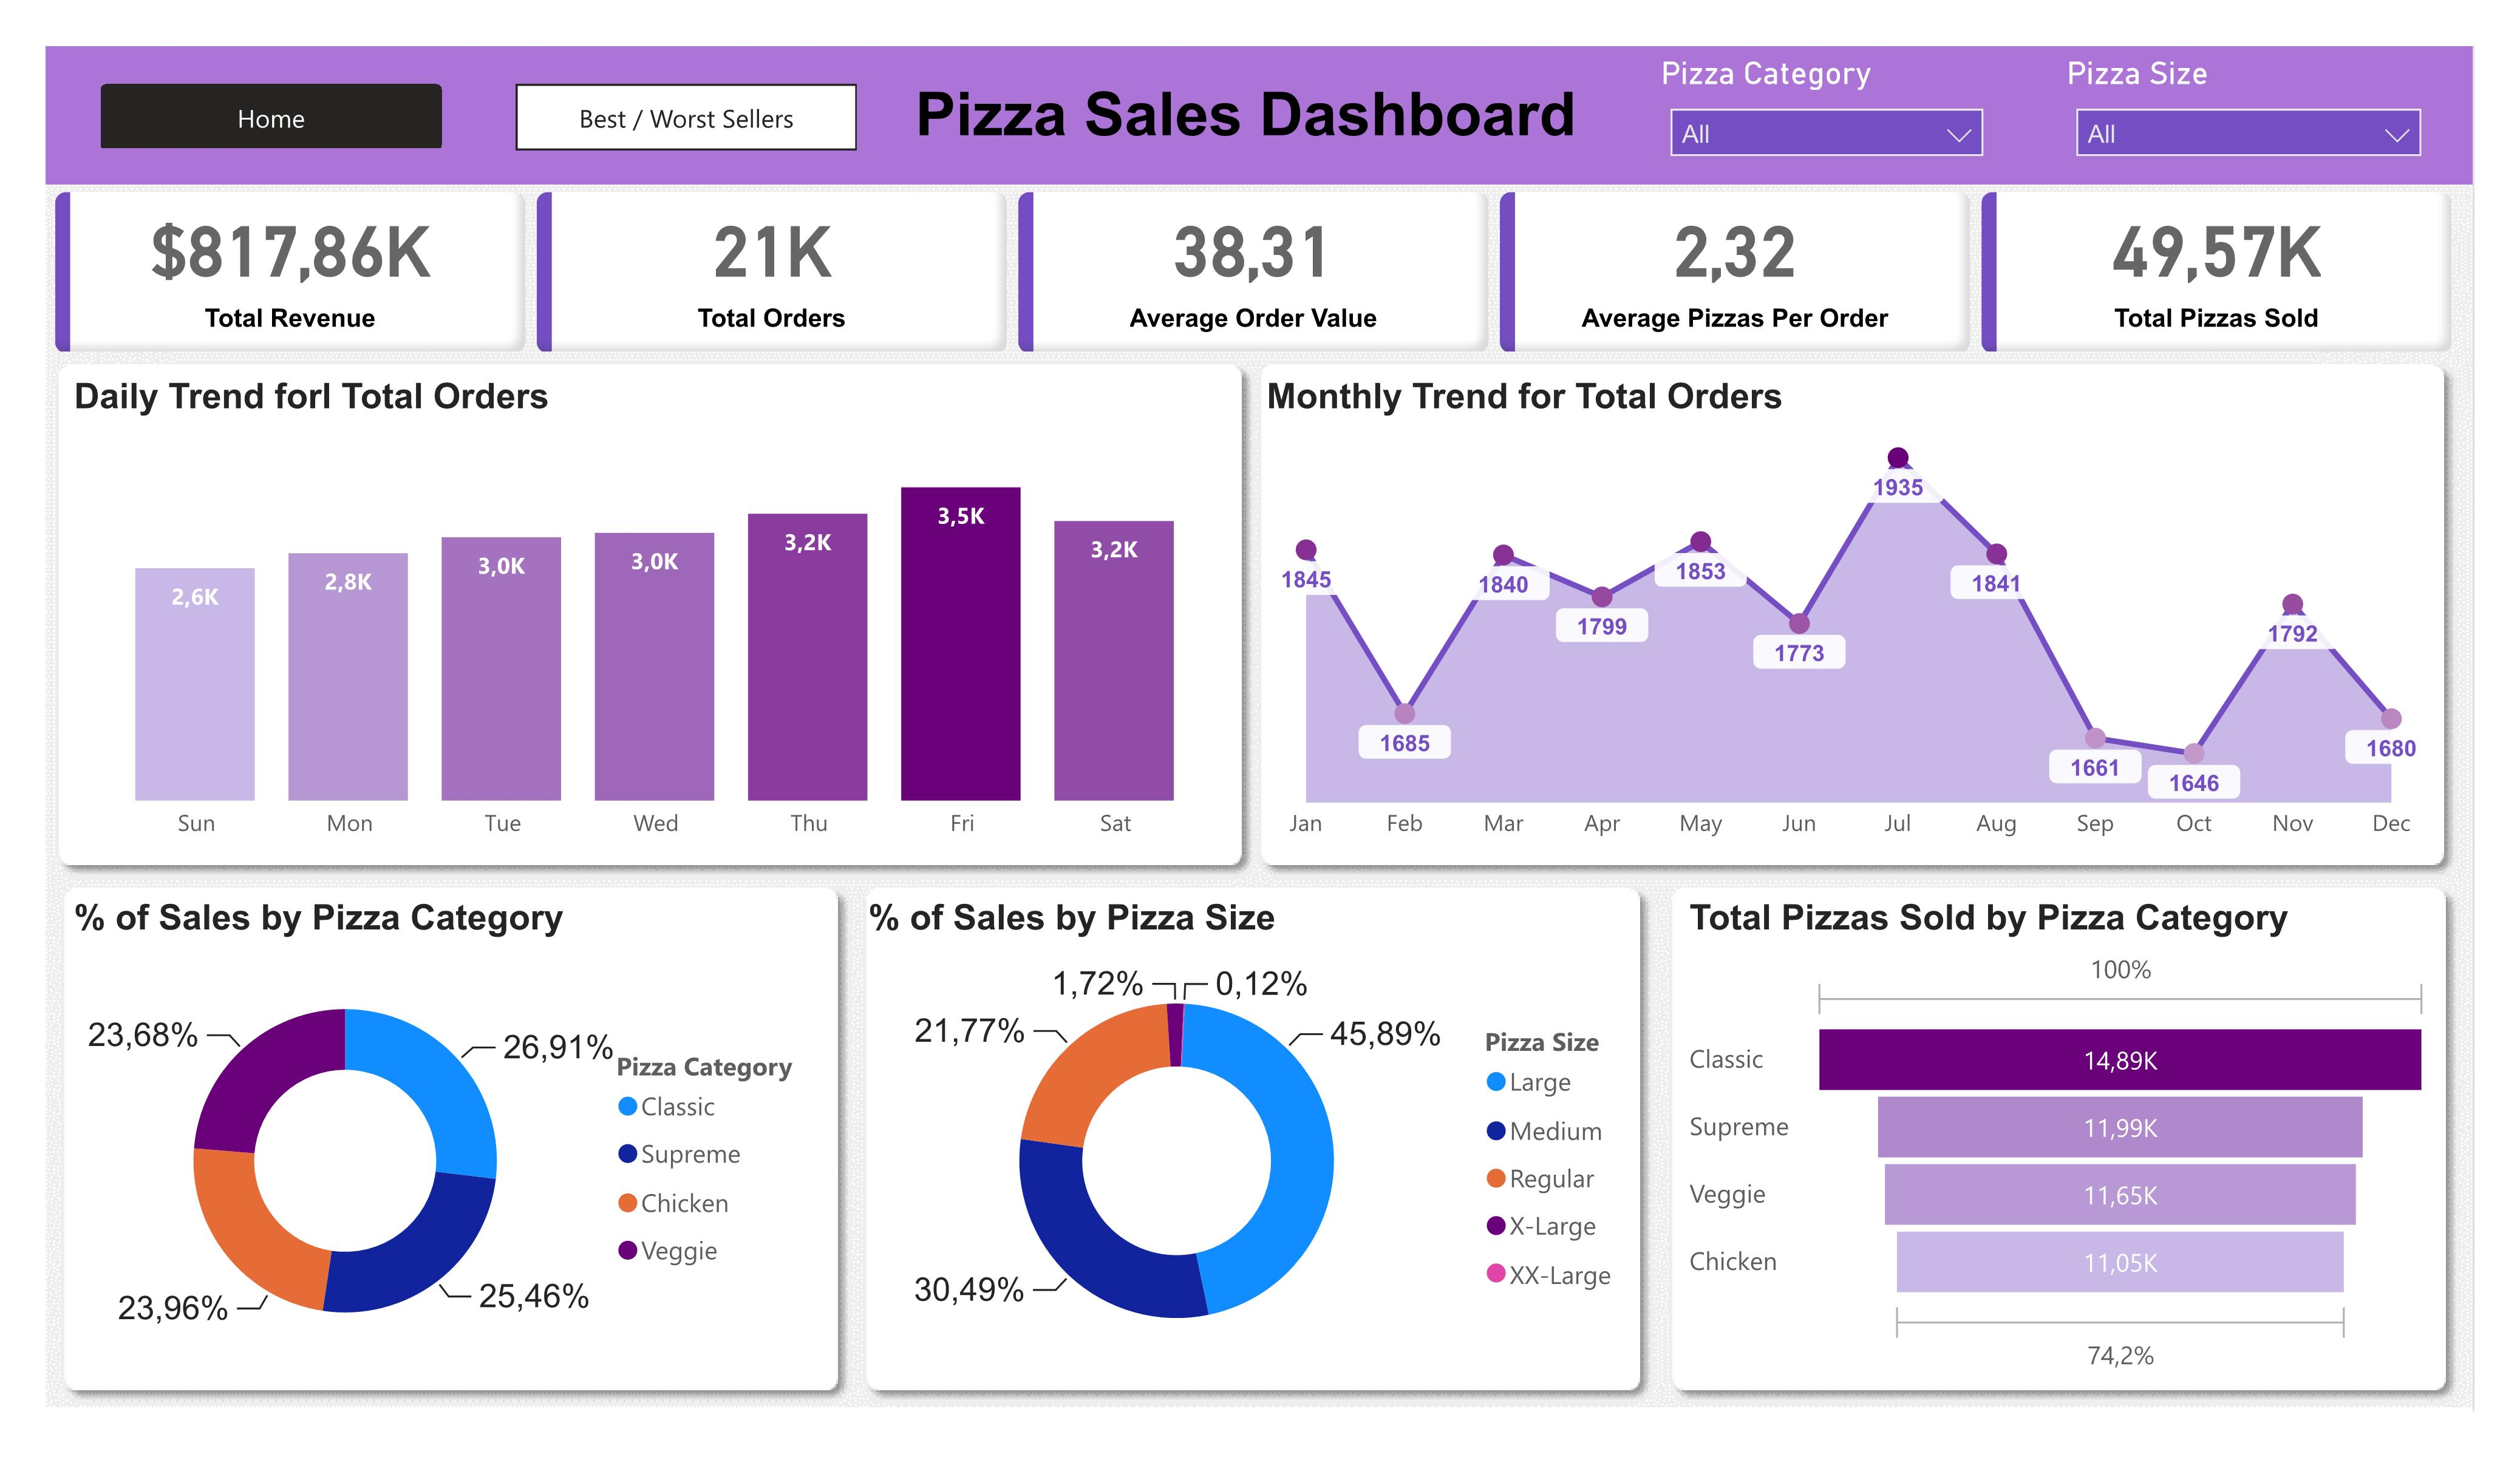

What the dashboard file says about the page in this screenshot:
{"tool":"powerbi","page":{"name":"Home","canvas":[1280,720],"ordinal":0},"visuals":[{"type":"cardVisual","fields":{"Data":["All Measures.Total Revenue","All Measures.Total Orders","All Measures.Average Order Value","All Measures.Average Pizzas Per Order","All Measures.Total Pizzas Sold"]},"box":[0,72.3,1278.4,95],"z":0},{"type":"textbox","box":[443.5,13,378.7,50.4],"z":1000},{"type":"clusteredColumnChart","title":"Daily Trend forl Total Orders","fields":{"Category":["Calendar.WeekDay"],"Y":["All Measures.Total Orders"]},"box":[9.9,174.3,623.6,253.7],"z":2000},{"type":"stackedAreaChart","title":"Monthly Trend for Total Orders","fields":{"Category":["Calendar.Month"],"Y":["All Measures.Total Orders"]},"box":[639.2,174.3,623.6,253.7],"z":3000},{"type":"donutChart","title":"% of Sales by Pizza Category","fields":{"Category":["Pizza Sales.pizza_category"],"Y":["All Measures.Total Revenue"]},"box":[9.9,449.3,405.4,256.5],"z":4000},{"type":"donutChart","title":"% of Sales by Pizza Size","fields":{"Y":["All Measures.Total Revenue"],"Category":["Pizza Sales.pizza_size"]},"box":[429.4,449.3,413.9,256.5],"z":5000},{"type":"funnel","title":"Total Pizzas Sold by Pizza Category","fields":{"Category":["Pizza Sales.pizza_category"],"Y":["All Measures.Total Pizzas Sold"]},"box":[861.7,449.3,401.1,256.5],"z":6000},{"type":"slicer","title":"Pizza Category","fields":{"Values":["Pizza Sales.pizza_category"]},"box":[846.7,4.3,185.8,60],"z":7000},{"type":"slicer","title":"Pizza  Size","fields":{"Values":["Pizza Sales.pizza_size"]},"box":[1061.3,4.3,201.6,60],"z":8000},{"type":"pageNavigator","box":[28.8,20.2,180,34.6],"z":9000},{"type":"pageNavigator","box":[247.7,19.7,180,35],"z":10000}]}

Visuals, with their boxes on the page's 1280x720 design canvas (x1, y1, x2, y2). These are canvas units, not pixel positions in the 2520x1457 screenshot, which may show the page scaled, cropped or inside an application window:
cardVisual - All Measures.Total Revenue x All Measures.Total Orders: [0,72,1278,167]
textbox: [444,13,822,63]
"Daily Trend forl Total Orders" clusteredColumnChart: [10,174,634,428]
"Monthly Trend for Total Orders" stackedAreaChart: [639,174,1263,428]
"% of Sales by Pizza Category" donutChart: [10,449,415,706]
"% of Sales by Pizza Size" donutChart: [429,449,843,706]
"Total Pizzas Sold by Pizza Category" funnel: [862,449,1263,706]
"Pizza Category" slicer: [847,4,1032,64]
"Pizza  Size" slicer: [1061,4,1263,64]
pageNavigator: [29,20,209,55]
pageNavigator: [248,20,428,55]
